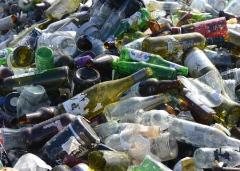glass: (0, 9, 240, 171)
